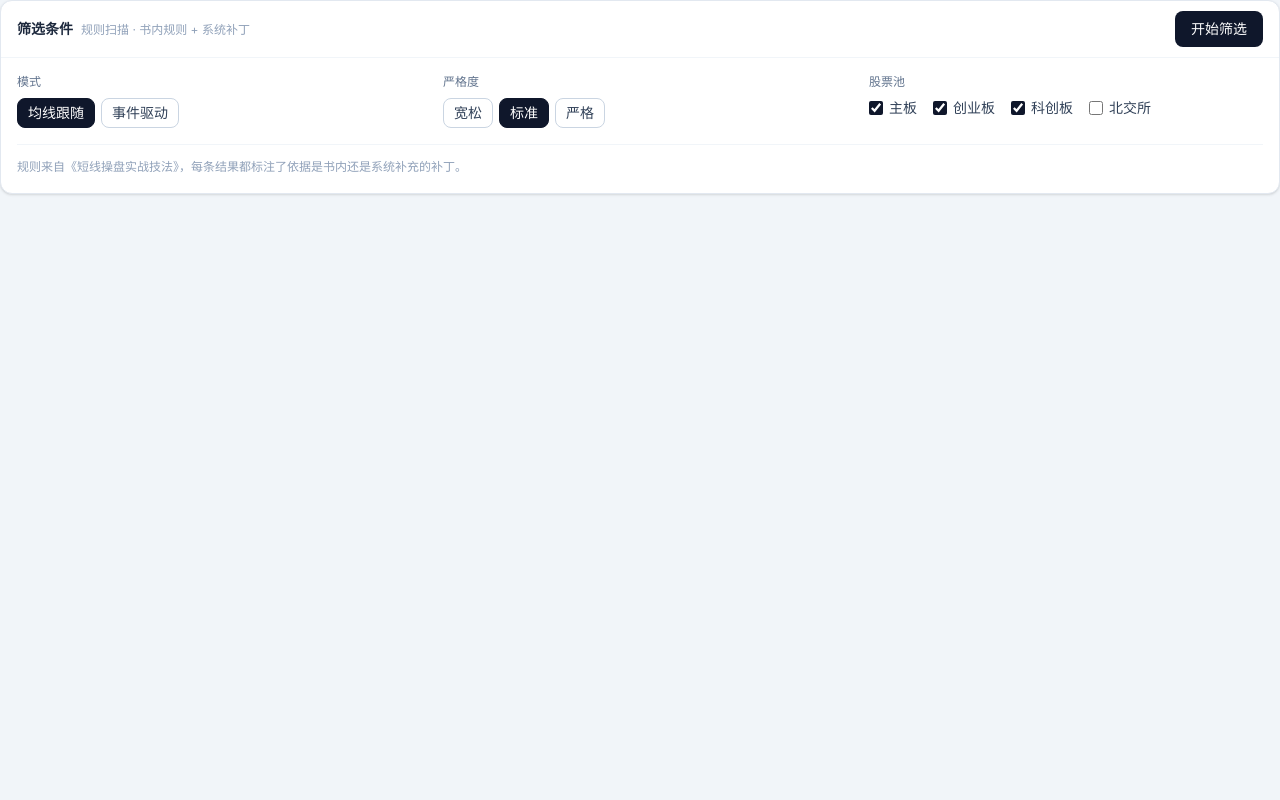
Test: 真实响应 · 趋势模式 › 档位徽章按趋势模式的标签渲染（真实数据的档位是 2/3/4）
The width and height of the screenshot is (1280, 800).
What coordinates should you click on to do the following:
click the button "开始筛选"
I would click on:
 (1219, 29)
Its box is [1175,11,1263,47].
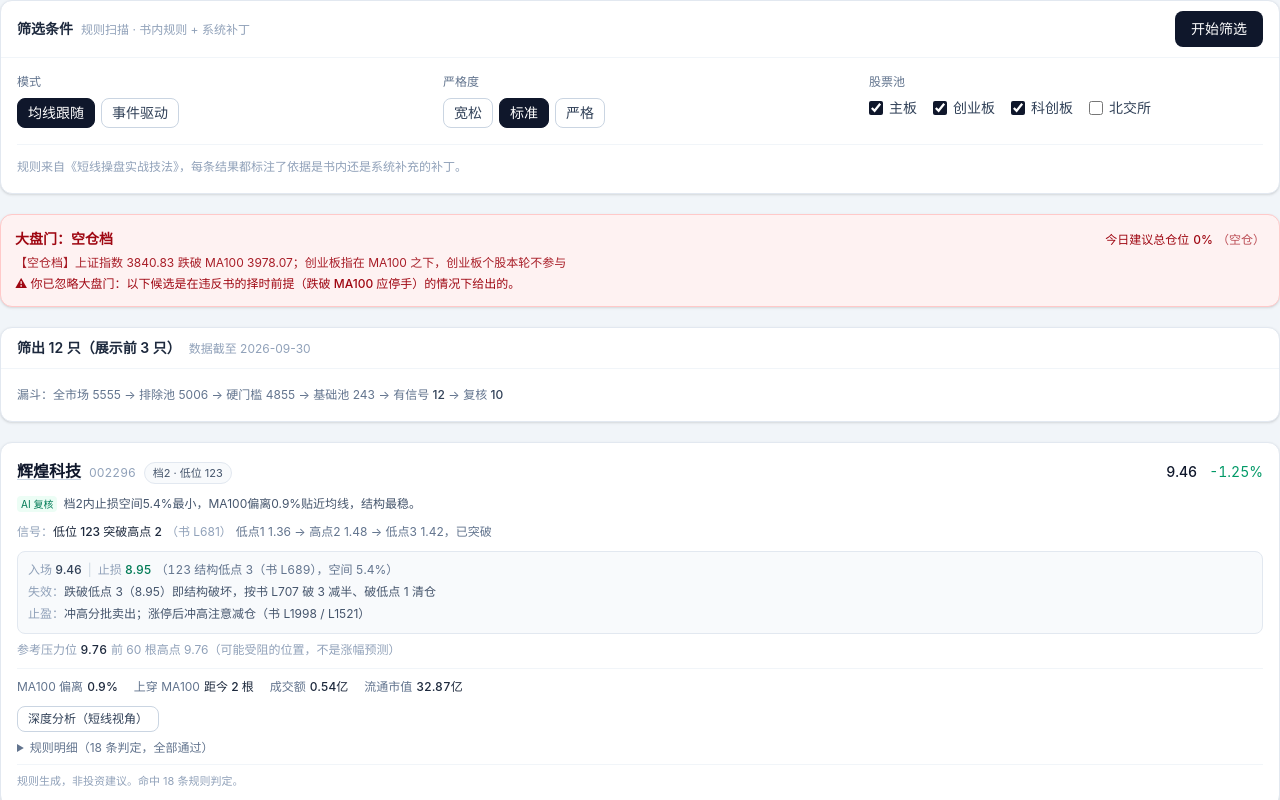
Expected: the button "辉煌科技" is shown, [17,458,81,482]
Expected: the text "档2 · 低位 123" is shown, [144,462,232,484]
